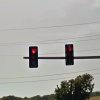Traffic light: (17, 41, 85, 75)
